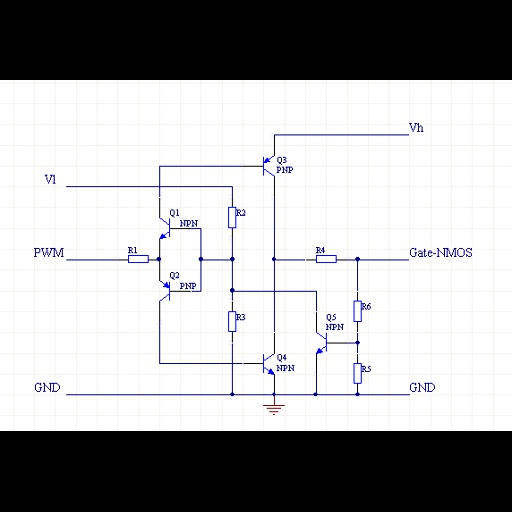firstresistance: (349, 298, 363, 325), (225, 202, 237, 233), (350, 360, 363, 387), (226, 306, 237, 336), (123, 254, 152, 265), (312, 254, 341, 265)
gnd: (259, 404, 289, 416)
npn: (307, 330, 332, 359), (256, 349, 277, 379), (152, 215, 173, 242)
pnp: (257, 147, 277, 182), (152, 277, 171, 306)
